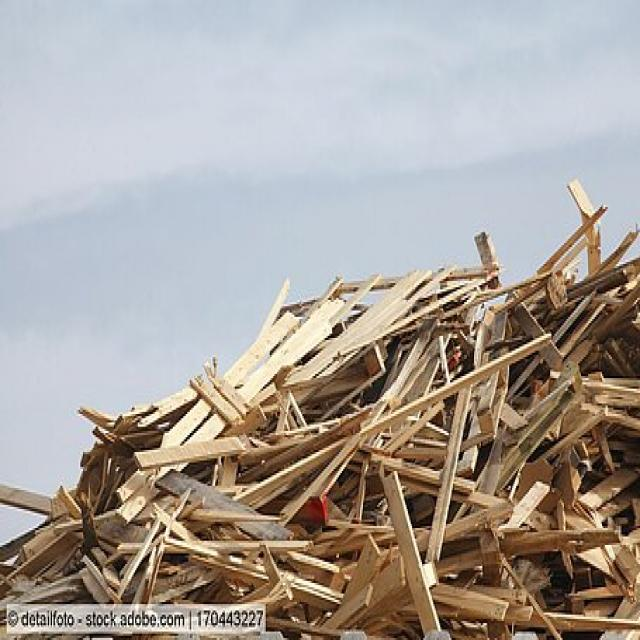green waste: (0, 168, 640, 640)
